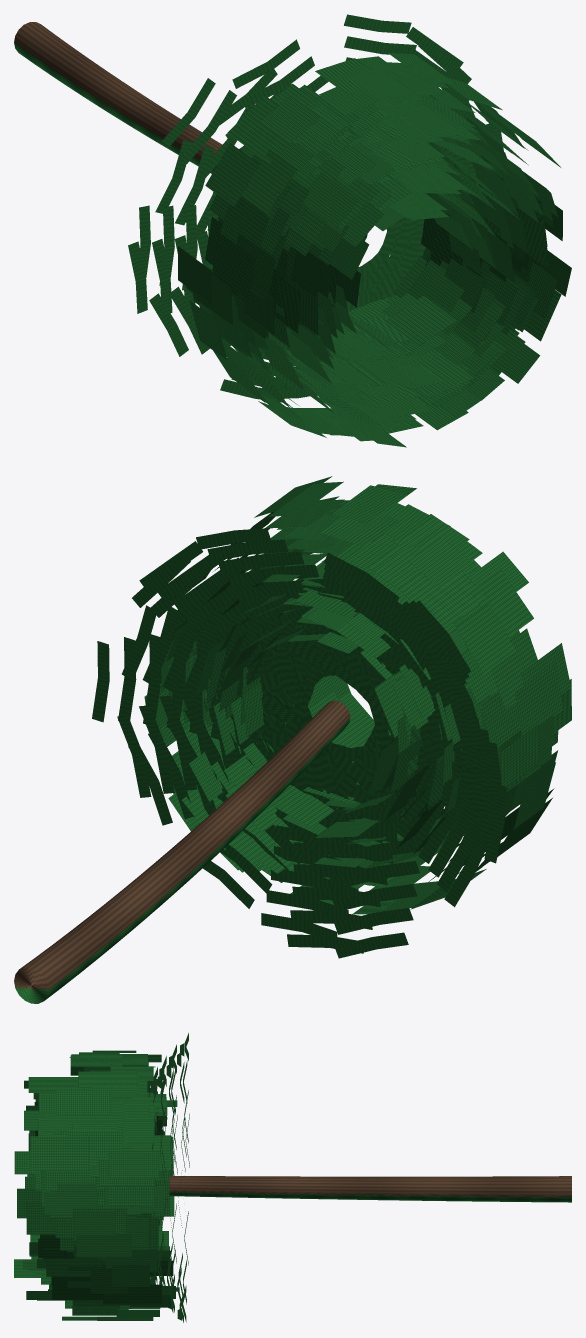
File: veg_tropical_palm_01.glb
3 views of the same model, one above another, from view 1: azimuth 30°, elevation 25°; view 2: azimuth 150°, elevation 25°; view 3: azimuth 270°, elevation 25° (orthographic). The views are drawn at different scales.
Parts seen in each view (by area): view 1: veg_tropical_palm_01; view 2: veg_tropical_palm_01; view 3: veg_tropical_palm_01.
Part boxes in pixels (bbox=[...]): veg_tropical_palm_01: bbox=[14, 14, 571, 447]; veg_tropical_palm_01: bbox=[14, 476, 571, 1003]; veg_tropical_palm_01: bbox=[14, 1033, 571, 1322].
Size of the model in its own units: 3.09 by 2.95 by 5.5.
1 material, 1 textured.
